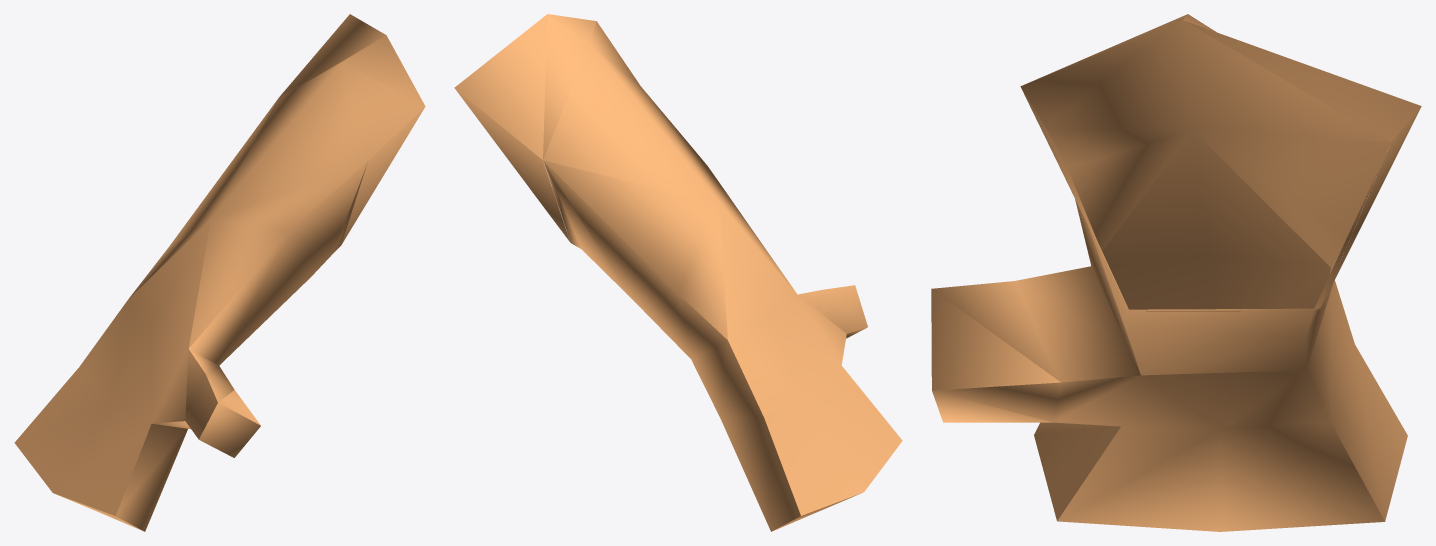
The model's file is brazoIzq.obj.
The picture shows the model from 3 angles, left to right: view 1: azimuth 30°, elevation 25°; view 2: azimuth 150°, elevation 25°; view 3: azimuth 270°, elevation 25°; orthographic projection. The views are drawn at different scales.
Parts seen in each view (by area): view 1: polySurface9; view 2: polySurface9; view 3: polySurface9.
Boxes of the visible parts, x1,y1,x2,y2 form: polySurface9: [14, 14, 425, 531]; polySurface9: [454, 14, 902, 531]; polySurface9: [931, 14, 1421, 531].
Size of the model in its own units: 1.94 by 2.19 by 1.27.
1 material, 1 textured.
